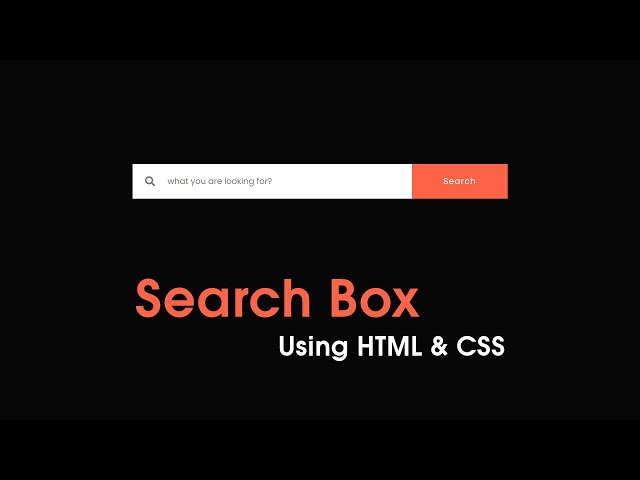search_box: (132, 163, 511, 199)
